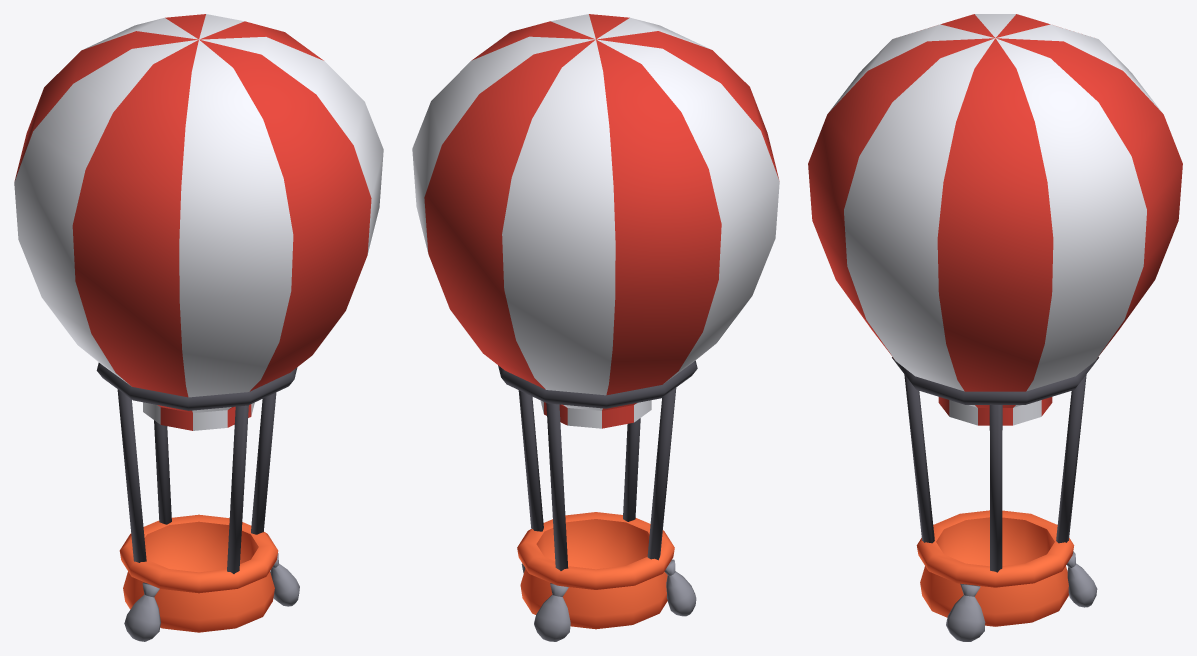
The model's file is Balloon.fbx.
3 renders of one model, left to right at view 1: azimuth 30°, elevation 25°; view 2: azimuth 150°, elevation 25°; view 3: azimuth 270°, elevation 25°, orthographic.
Visible parts, largest first — view 1: AirBalloon; view 2: AirBalloon; view 3: AirBalloon.
Part boxes in pixels (x1=…): AirBalloon: x1=14, y1=14, x2=383, y2=641; AirBalloon: x1=412, y1=14, x2=779, y2=641; AirBalloon: x1=808, y1=14, x2=1182, y2=641.
Bounding box in the file's own units: 500 × 878 × 526.
